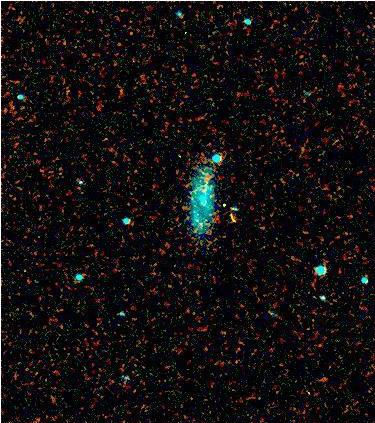star: (207, 186, 237, 216)
